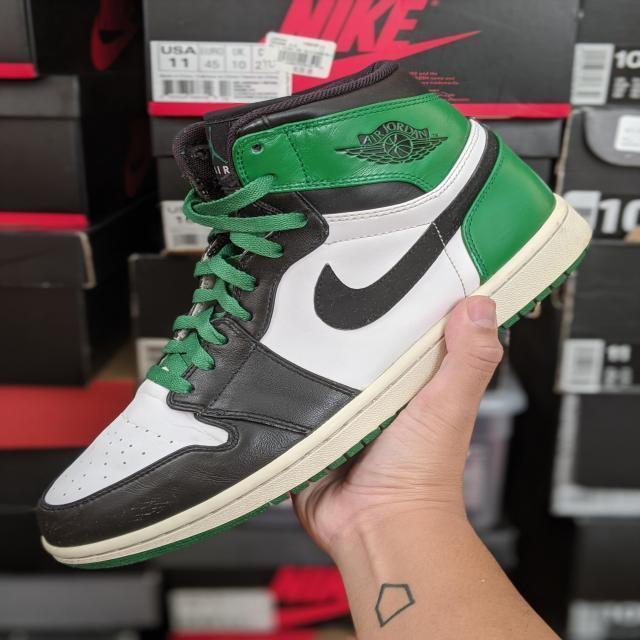shoes: (37, 58, 599, 581)
